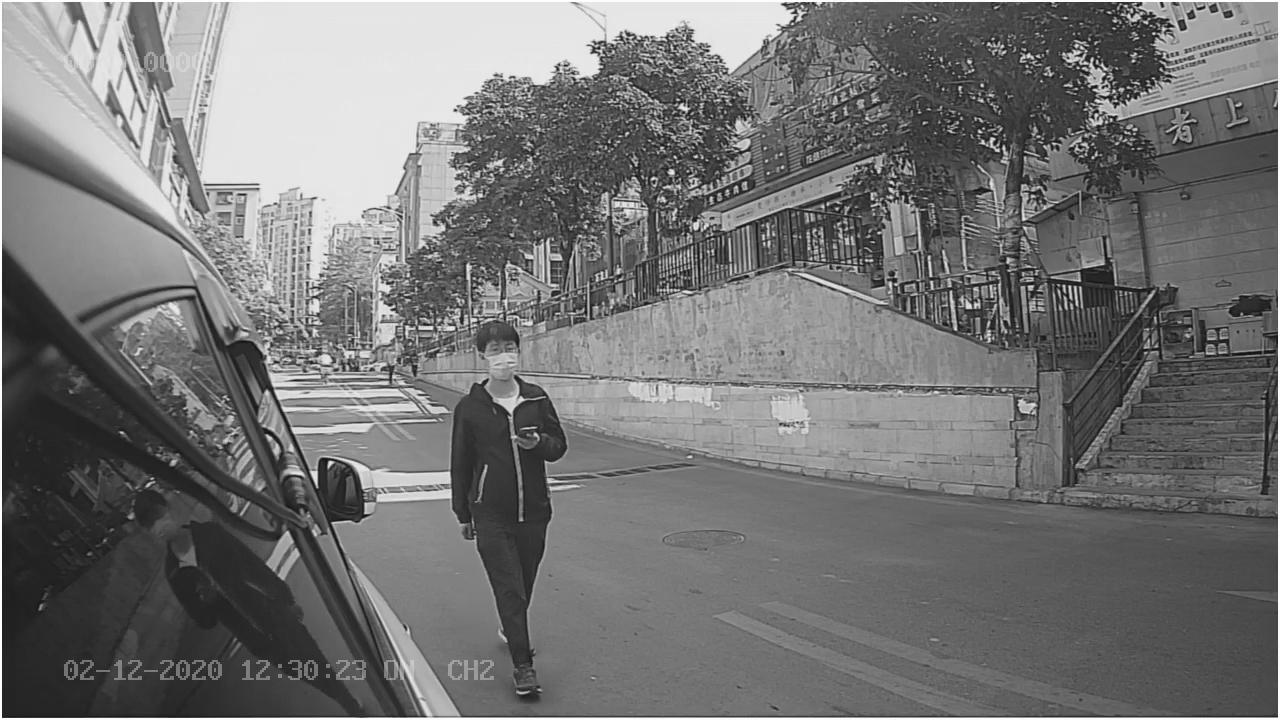person: (446, 312, 573, 700)
